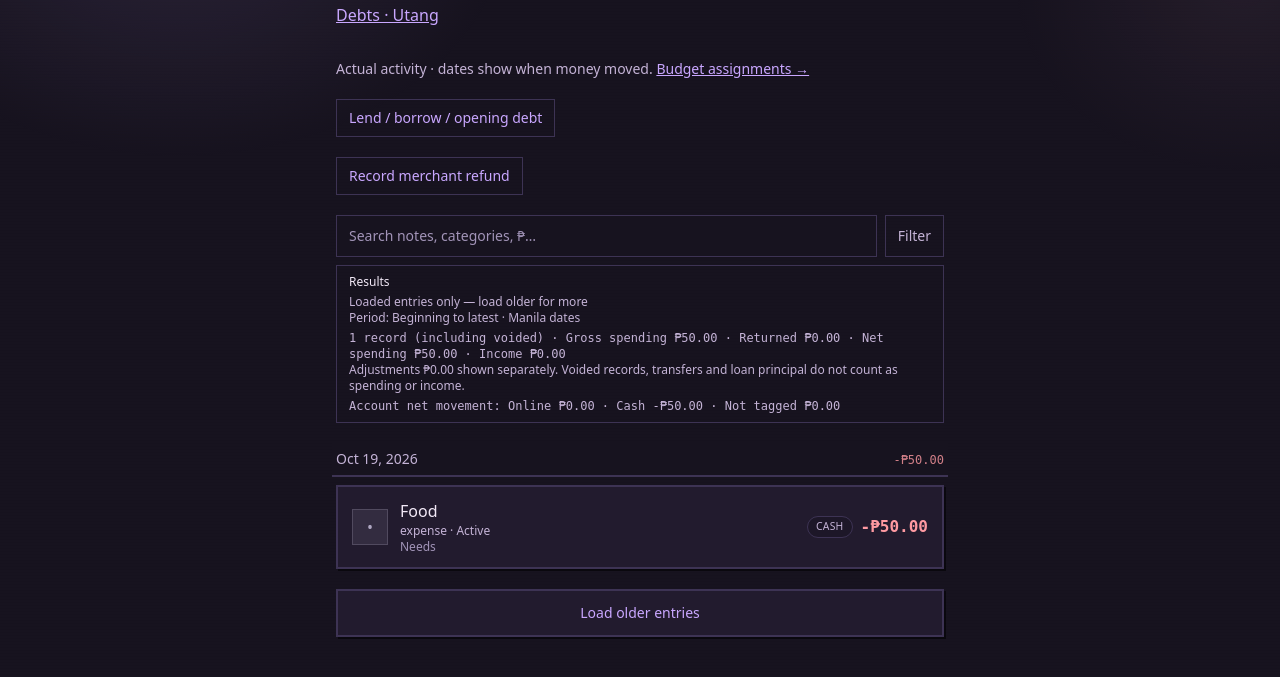
Scenario: keeps whole income groups while loading older pages and labels voided audit records
This screenshot has width=1280, height=677.
(page scrolled)
Click the button "Load older entries".
click(640, 613)  # box x1=336 y1=589 x2=944 y2=637
(page scrolled)
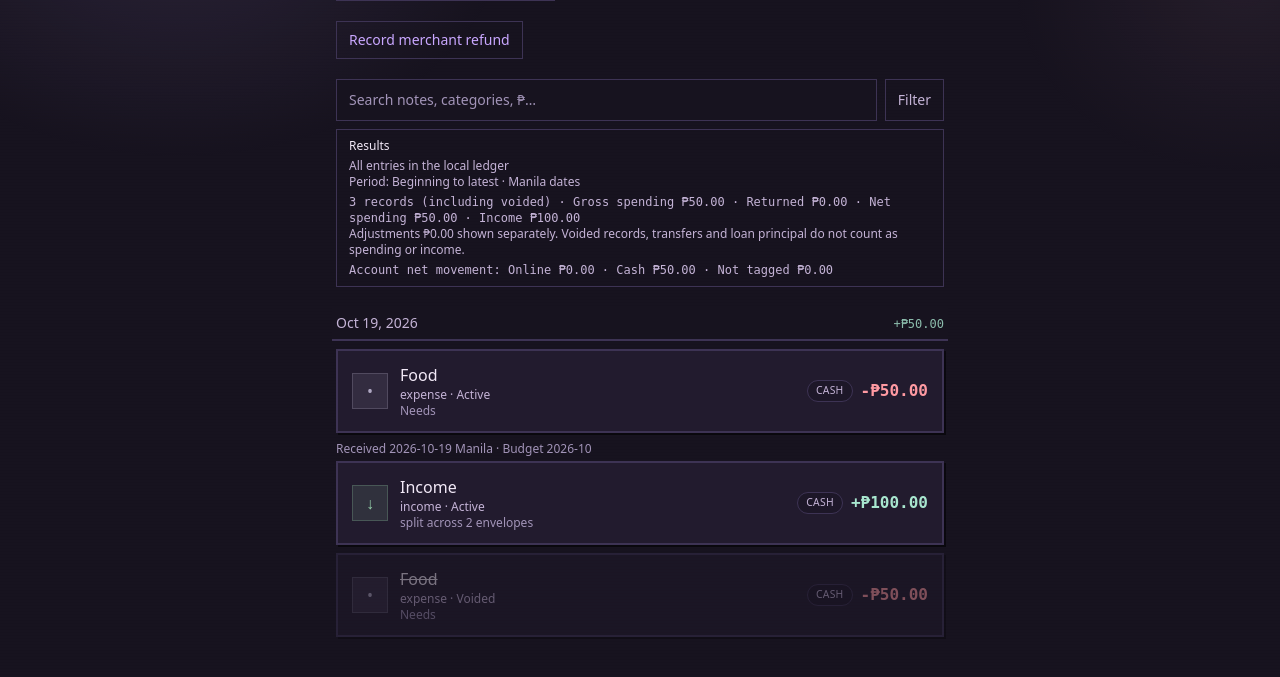
Now the button that starts with "Income" is shown, box x1=338 y1=463 x2=942 y2=543
Now the element "Results" shows "3 records (including voided)", box x1=336 y1=129 x2=944 y2=287
Now the text "expense · Voided" is shown, box x1=400 y1=590 x2=495 y2=607
